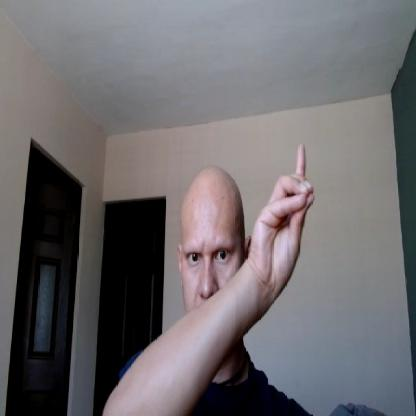D: (251, 142, 315, 291)
